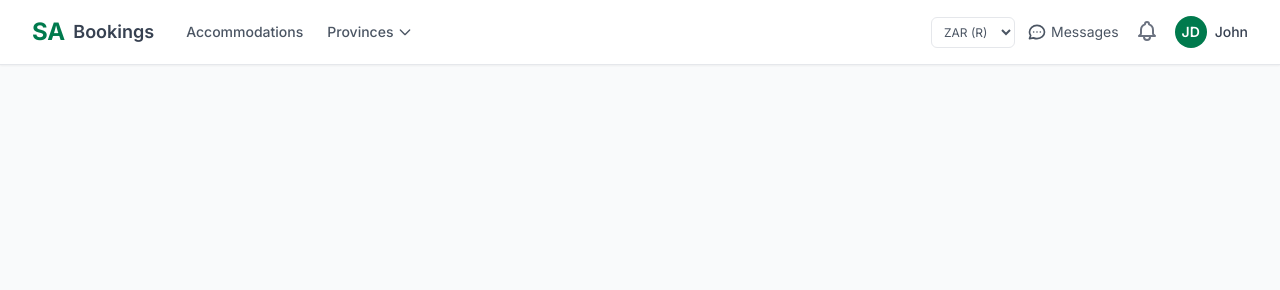
it: Header › should close dropdown on dashboard link click
This screenshot has width=1280, height=290.
Step 1. Click the button "JD John" → (1211, 32), box [1175,16,1248,48]
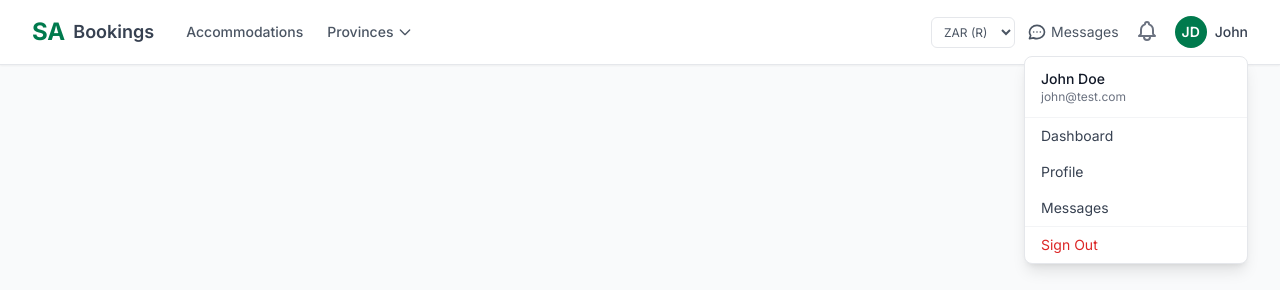
Expected: the link "Dashboard" is shown
Step 2. Click the link "Dashboard" → (1077, 136), box [1041,127,1113,144]
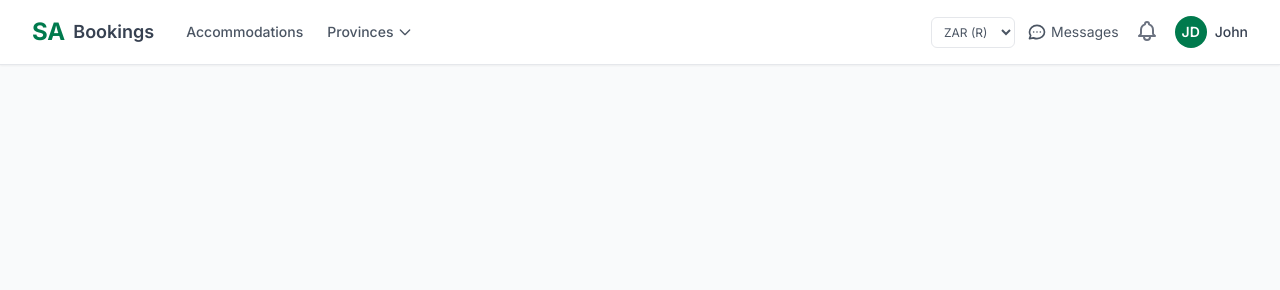
Expected: the link "Dashboard" is gone
